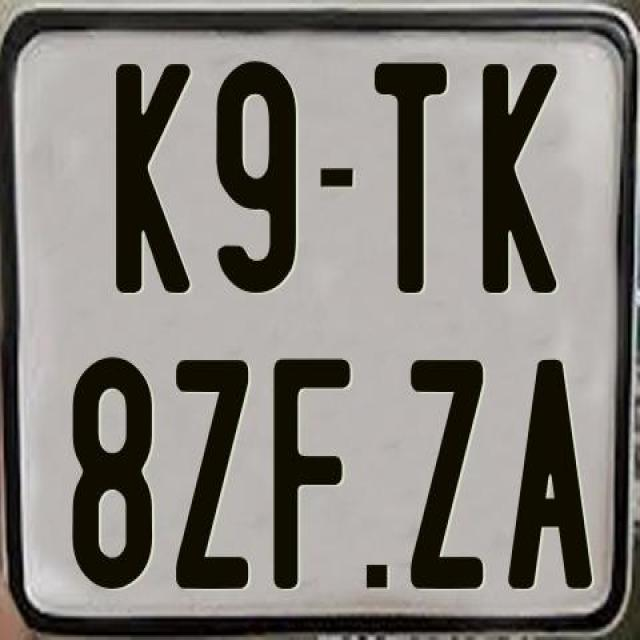8: (70, 354, 150, 596)
9: (212, 58, 300, 292)
A: (506, 357, 594, 589)
F: (273, 357, 352, 597)
K: (478, 62, 554, 298), (113, 61, 188, 292)
T: (370, 61, 444, 294)
Z: (174, 355, 250, 592), (410, 356, 482, 594)
